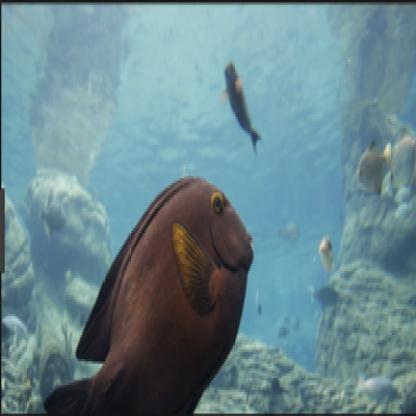Acanthuridae -Surgeonfishes-: (45, 168, 259, 415), (221, 58, 264, 158)
